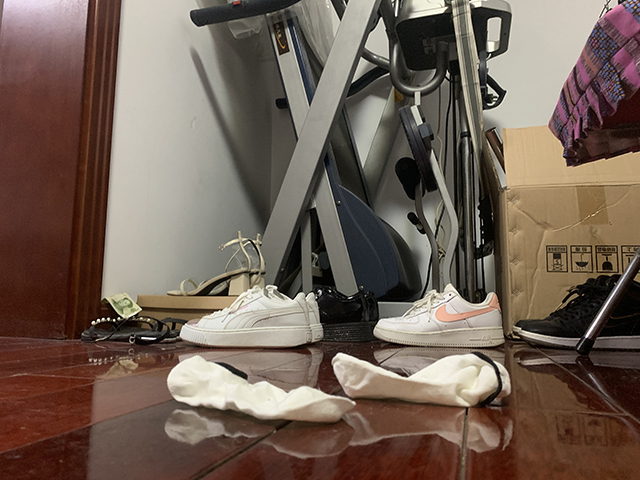socks: (164, 355, 357, 425), (332, 349, 513, 408)
